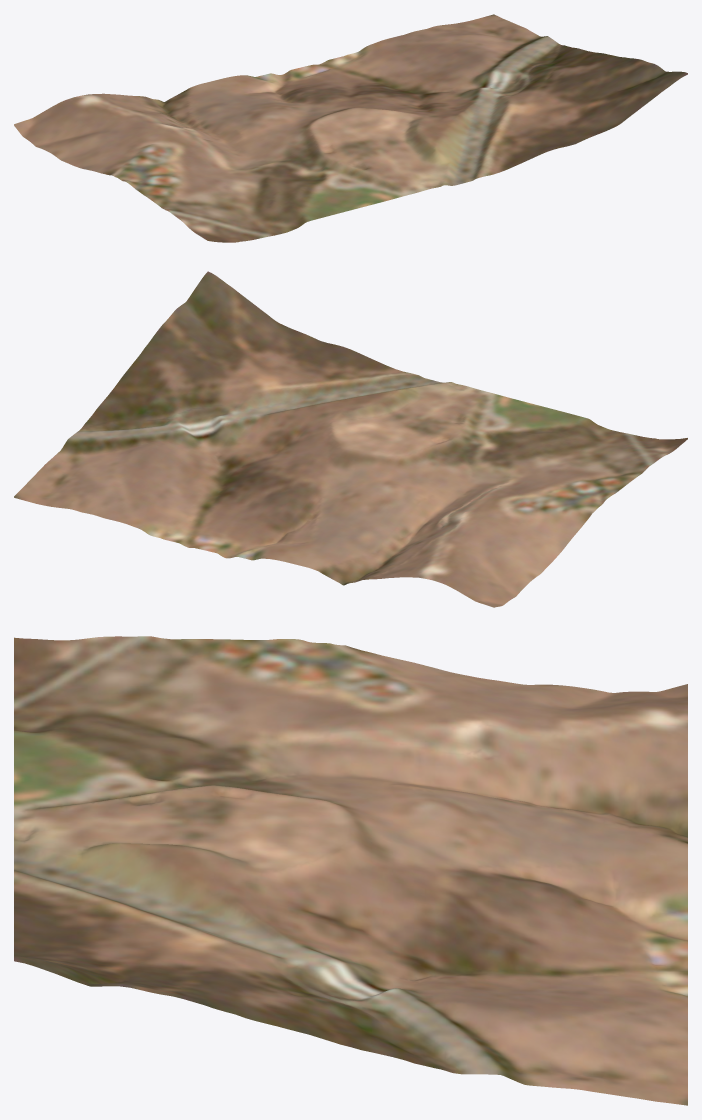
Rendered from terrain_r7_c3.glb.
3 renders of one model, top to bottom at view 1: azimuth 30°, elevation 25°; view 2: azimuth 150°, elevation 25°; view 3: azimuth 270°, elevation 25°, orthographic. The views are drawn at different scales.
Visible parts, largest first — view 1: terrain_r7_c3_lod0; view 2: terrain_r7_c3_lod0; view 3: terrain_r7_c3_lod0.
Part boxes in pixels (<box>): terrain_r7_c3_lod0: <box>14,14,687,242</box>; terrain_r7_c3_lod0: <box>14,271,687,607</box>; terrain_r7_c3_lod0: <box>14,636,687,1105</box>.
Size of the model in its own units: 1125 by 209 by 787.
Materials: 1 (1 with a texture image).
